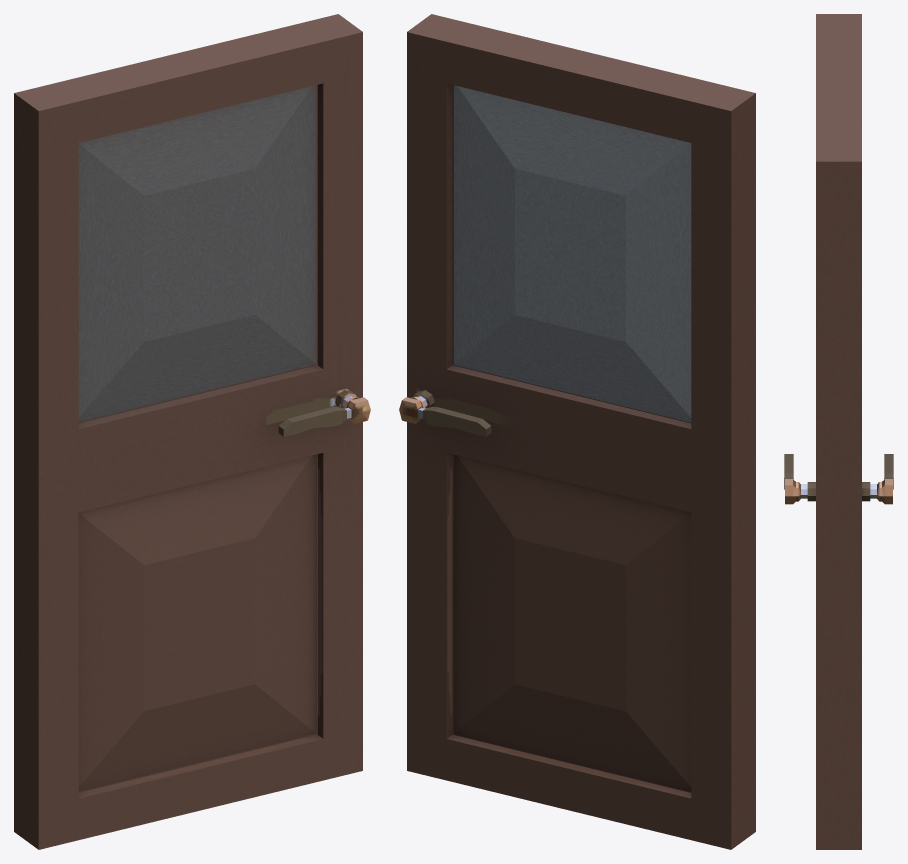
Rendered from door03.fbx.
The picture shows the model from 3 angles, left to right: view 1: azimuth 30°, elevation 25°; view 2: azimuth 150°, elevation 25°; view 3: azimuth 270°, elevation 25°; orthographic projection. The views are drawn at different scales.
Visible parts, largest first — view 1: Cube.001; view 2: Cube.001; view 3: Cube.001.
Boxes of the visible parts, box(x1,y1,x2,y2) form: Cube.001: box(14, 14, 370, 849); Cube.001: box(399, 14, 755, 849); Cube.001: box(784, 14, 893, 849).
Bounding box in the file's own units: 0.8807 × 0.2755 × 1.92.
Materials: 1 (1 with a texture image).
